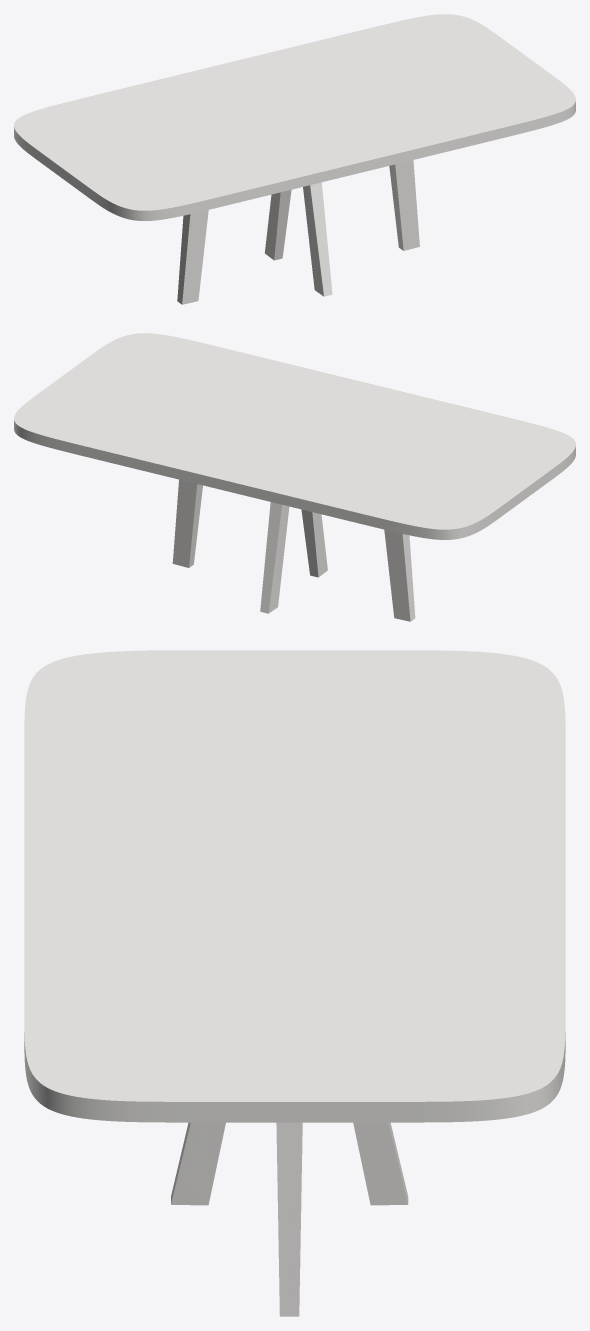
The model's file is purewhite_softrecta_standard_searwalnut.glb.
3 renders of one model, top to bottom at view 1: azimuth 30°, elevation 25°; view 2: azimuth 150°, elevation 25°; view 3: azimuth 270°, elevation 25°, orthographic. The views are drawn at different scales.
Visible parts, largest first — view 1: standard_softrecta, searwalnut; view 2: standard_softrecta, searwalnut; view 3: standard_softrecta, searwalnut.
Boxes of the visible parts, left/top/right/bottom form: standard_softrecta: left=14, top=14, right=575, bottom=220; searwalnut: left=177, top=160, right=419, bottom=304; standard_softrecta: left=14, top=333, right=575, bottom=539; searwalnut: left=172, top=479, right=415, bottom=621; standard_softrecta: left=24, top=650, right=565, bottom=1122; searwalnut: left=171, top=1122, right=408, bottom=1316.
Size of the model in its own units: 7.5 by 2.5 by 3.8.
1 material, 1 textured.
